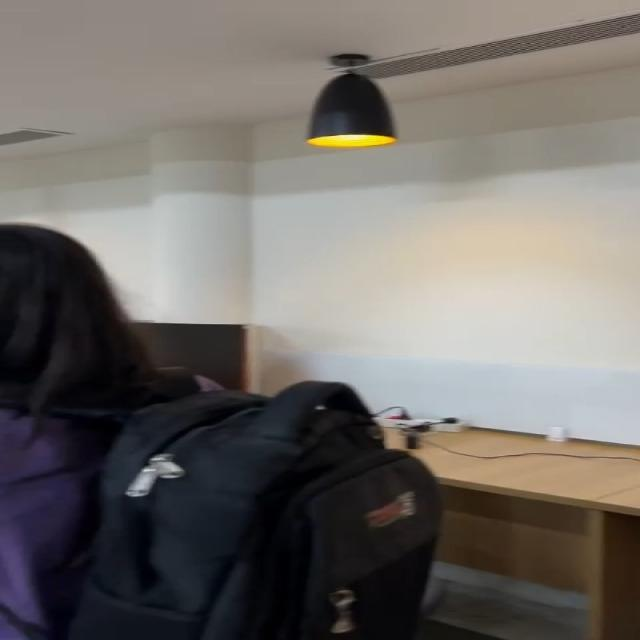moving_object: (0, 212, 375, 635)
wall: (219, 30, 640, 391)
